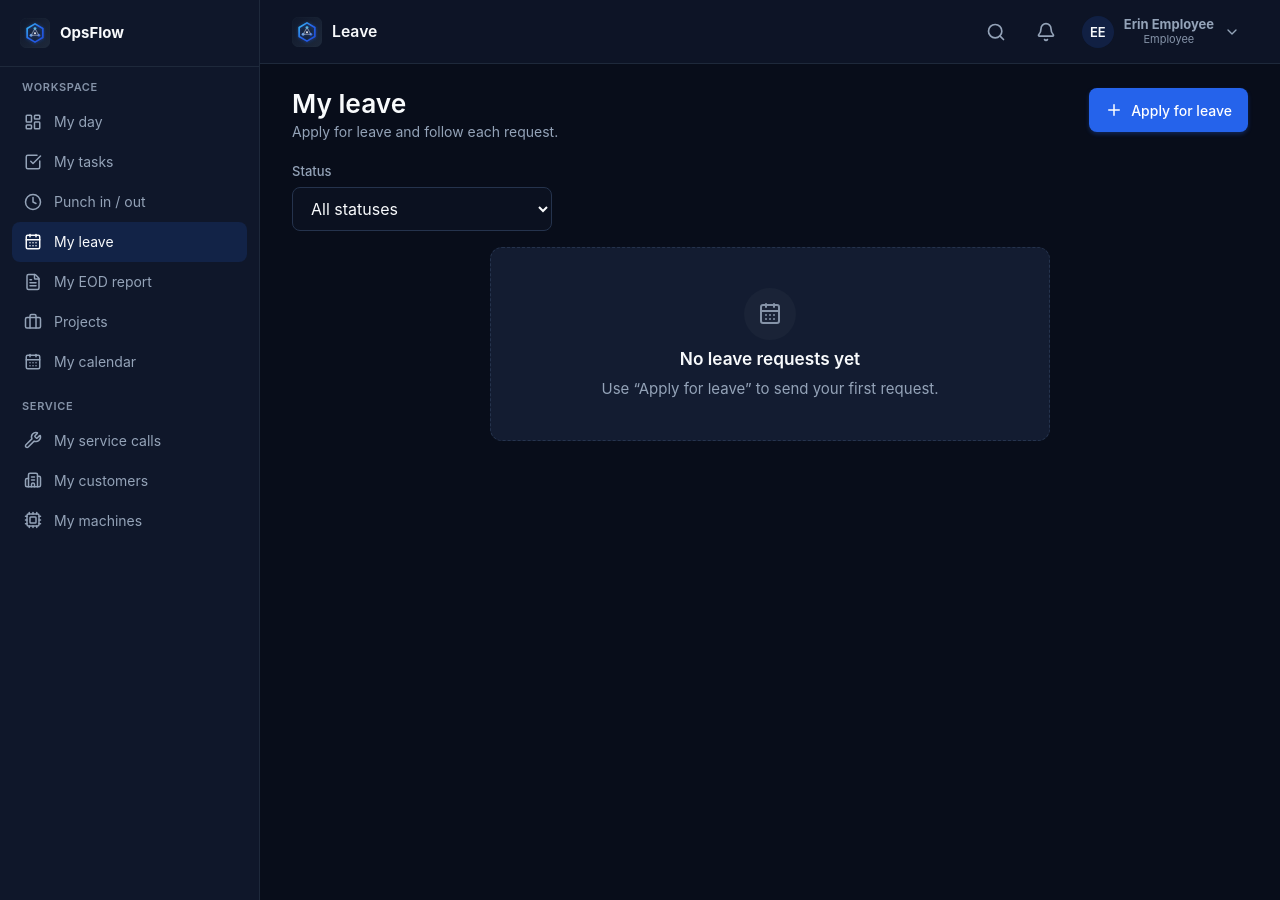
My leave › shows the server's reason when a request is refused
Click the button "Apply for leave": click(1169, 110) [1089,88,1248,132]
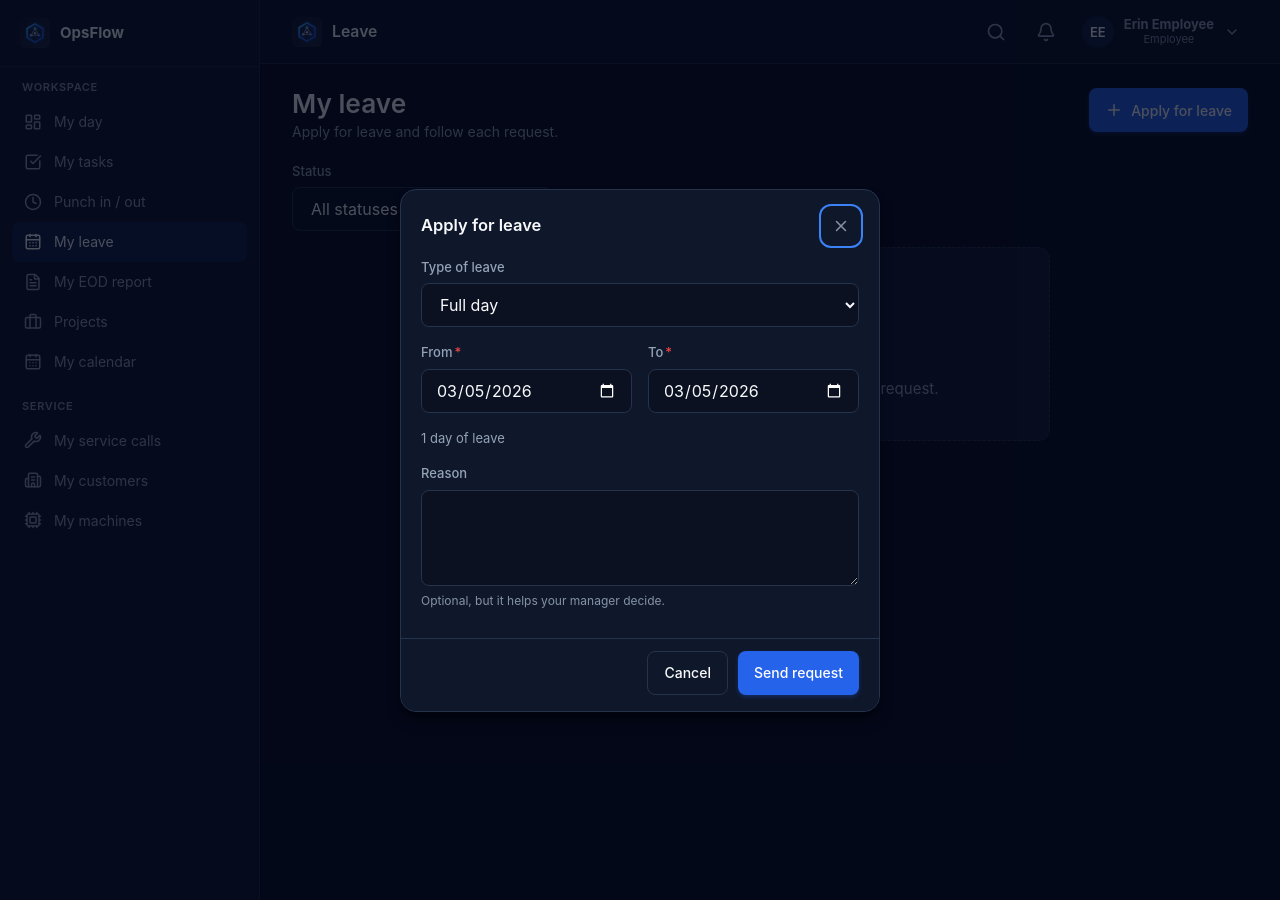
Click the button "Send request": click(798, 672) [738,650,859,694]
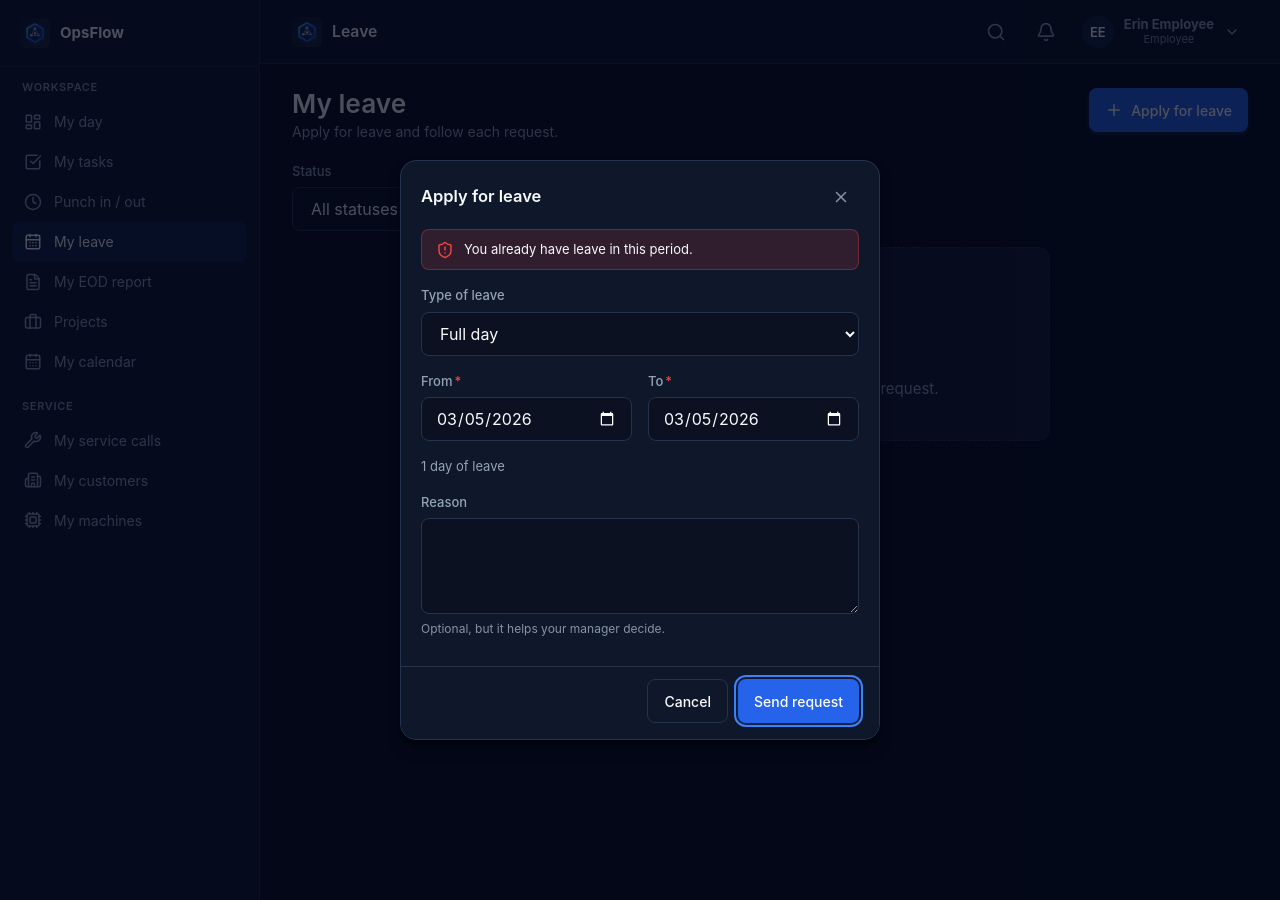
Check: the message reads "You already have leave in this period.", box [464,241,693,257]
